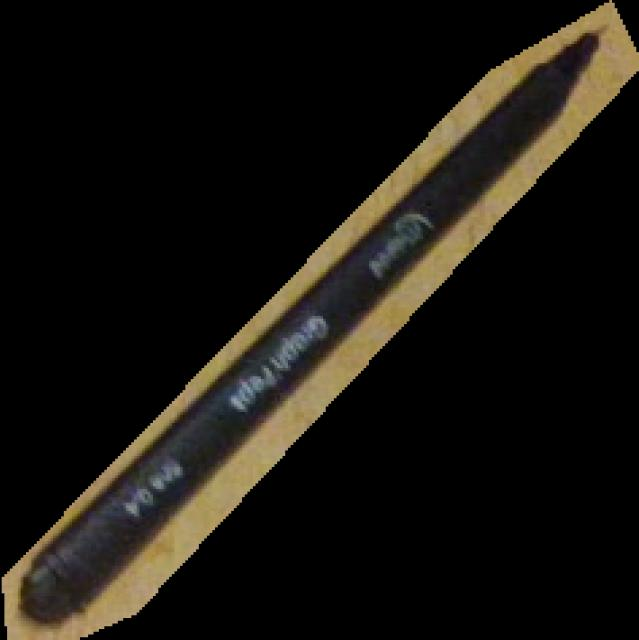black: (1, 0, 639, 640)
